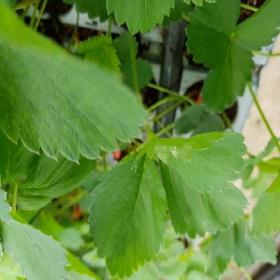Powdery Mildew Leaf: (135, 131, 248, 194)
